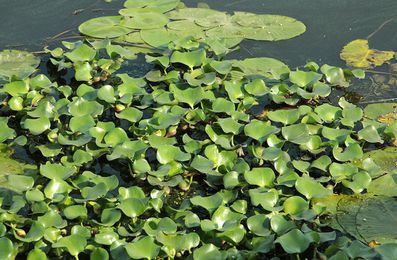water_hyacinth: (8, 46, 353, 259)
